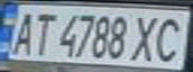4: (54, 9, 81, 57)
7: (75, 10, 96, 58)
8: (106, 11, 133, 61), (90, 11, 115, 60)
A: (6, 8, 39, 56)
C: (145, 14, 190, 63)
T: (27, 8, 57, 56)
X: (127, 12, 163, 63)
